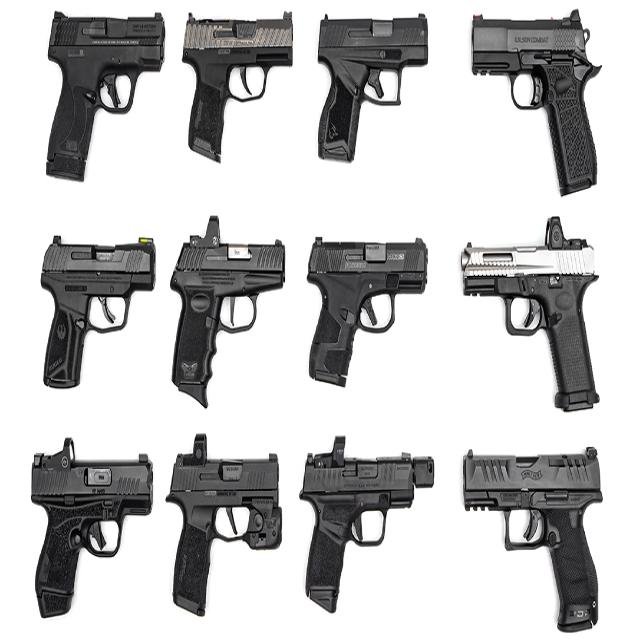HandGun: (461, 220, 599, 415), (463, 449, 603, 632), (471, 13, 599, 198), (301, 438, 432, 614), (170, 215, 286, 410), (31, 442, 154, 619), (44, 14, 164, 184), (169, 436, 281, 617), (306, 237, 428, 388), (39, 239, 156, 390), (181, 16, 293, 163), (317, 14, 428, 162)
